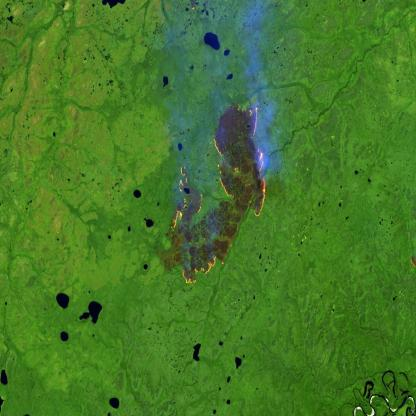fire: (166, 100, 266, 290)
